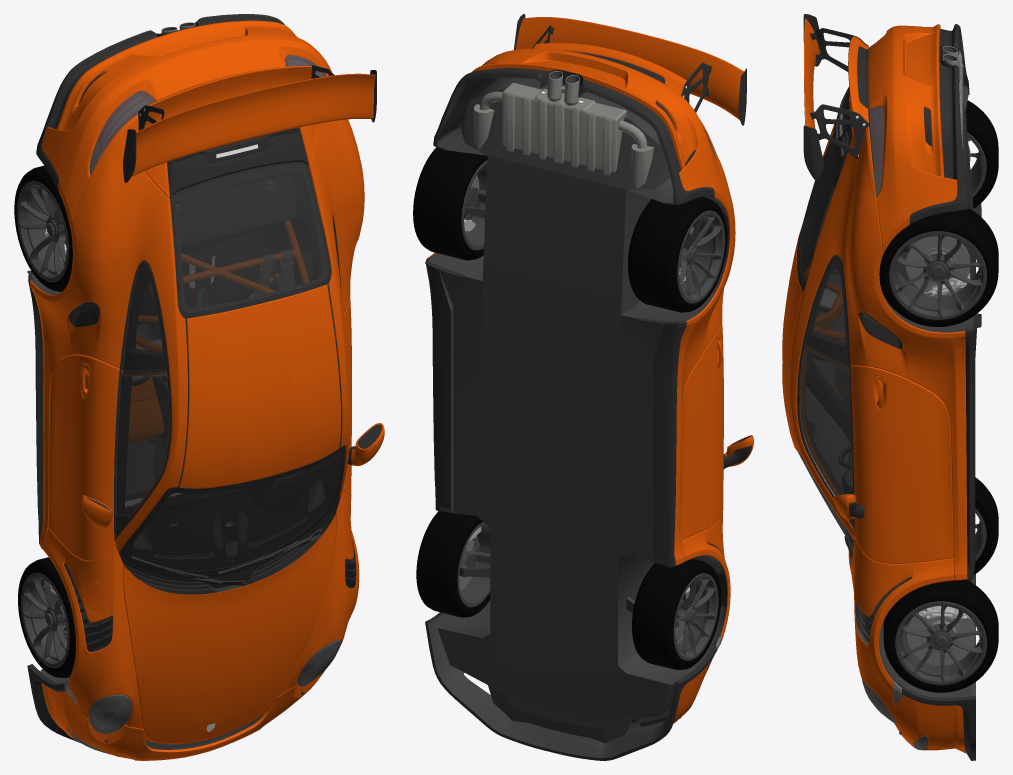
Rendered from Porsche.glb.
3 renders of one model, left to right at view 1: azimuth 30°, elevation 25°; view 2: azimuth 150°, elevation 25°; view 3: azimuth 270°, elevation 25°, orthographic. The views are drawn at different scales.
Parts seen in each view (by area): view 1: GEO_Body_SUB0.001_184, GEO_Windows_SUB1.001_219, GEO_MotorHood_SUB0.001_198, GEO_RearBumper_SUB0.003_196, GEO_Cockpit_HR_SUB0.003_142, GEO_Body_SUB1.001_183, GEO_Door_R_SUB0.001_223, GEO_Wing_SUB1.001_204, GEO_Cockpit_HR_SUB1.069_140, GEO_Windows_SUB0.001_218, GEO_window_L1.001_224, GEO_Front_Bumper_SUB0.001_159 (+18 smaller); view 2: GEO_Body_SUB3.001_190, GEO_Body_SUB9.001_187, GEO_Body_SUB1.001_183, GEO_RearBumper_SUB0.003_196, GEO_Door_R_SUB0.001_223, GEO_Body_SUB0.001_184, GEO_Wing_SUB1.001_204, Tyre_RR2.001_6, GEO_Front_Bumper_SUB2.001_162, Tyre_RR1.001_164, A_Tyre_LF2.001_202, A_Tyre_LF.001_9 (+10 smaller); view 3: GEO_Body_SUB0.001_184, GEO_Door_L_SUB0.001_215, GEO_RearBumper_SUB0.003_196, GEO_Windows_SUB1.001_219, GEO_window_L.001_216, GEO_Body_SUB1.001_183, GEO_rim_front2_SUB0.001_163, A_Tyre_LF.001_9, Tyre_RR1.001_164, GEO_Cockpit_HR_SUB1.069_140, GEO_RearBumper_SUB1.003_195, GEO_Body_SUB3.001_190 (+23 smaller).
Part boxes in pixels (x1=…): GEO_Body_SUB0.001_184: x1=30, y1=65, x2=364, y2=728; GEO_Windows_SUB1.001_219: x1=127, y1=164, x2=340, y2=571; GEO_MotorHood_SUB0.001_198: x1=123, y1=514, x2=336, y2=742; GEO_RearBumper_SUB0.003_196: x1=42, y1=20, x2=332, y2=228; GEO_Cockpit_HR_SUB0.003_142: x1=125, y1=219, x2=327, y2=569; GEO_Body_SUB1.001_183: x1=27, y1=127, x2=356, y2=651; GEO_Door_R_SUB0.001_223: x1=48, y1=355, x2=119, y2=560; GEO_Wing_SUB1.001_204: x1=131, y1=73, x2=375, y2=176; GEO_Cockpit_HR_SUB1.069_140: x1=126, y1=164, x2=340, y2=570; GEO_Windows_SUB0.001_218: x1=119, y1=161, x2=345, y2=578; GEO_window_L1.001_224: x1=116, y1=369, x2=169, y2=517; GEO_Front_Bumper_SUB0.001_159: x1=41, y1=671, x2=324, y2=760; GEO_Body_SUB3.001_190: x1=429, y1=71, x2=729, y2=743; GEO_Body_SUB9.001_187: x1=474, y1=71, x2=653, y2=188; GEO_Body_SUB1.001_183: x1=425, y1=69, x2=727, y2=603; GEO_RearBumper_SUB0.003_196: x1=472, y1=48, x2=729, y2=216; GEO_Door_R_SUB0.001_223: x1=681, y1=323, x2=753, y2=540; GEO_Body_SUB0.001_184: x1=428, y1=43, x2=735, y2=663; GEO_Wing_SUB1.001_204: x1=515, y1=17, x2=744, y2=119; Tyre_RR2.001_6: x1=628, y1=197, x2=727, y2=312; GEO_Front_Bumper_SUB2.001_162: x1=427, y1=613, x2=672, y2=758; Tyre_RR1.001_164: x1=413, y1=147, x2=487, y2=260; A_Tyre_LF2.001_202: x1=632, y1=558, x2=721, y2=669; A_Tyre_LF.001_9: x1=416, y1=511, x2=490, y2=617; GEO_Body_SUB0.001_184: x1=782, y1=36, x2=967, y2=714; GEO_Door_L_SUB0.001_215: x1=834, y1=365, x2=953, y2=563; GEO_RearBumper_SUB0.003_196: x1=868, y1=24, x2=957, y2=253; GEO_Windows_SUB1.001_219: x1=798, y1=134, x2=852, y2=544; GEO_window_L.001_216: x1=799, y1=345, x2=852, y2=496; GEO_Body_SUB1.001_183: x1=797, y1=49, x2=981, y2=642; GEO_rim_front2_SUB0.001_163: x1=889, y1=231, x2=987, y2=319; A_Tyre_LF.001_9: x1=883, y1=579, x2=998, y2=692; Tyre_RR1.001_164: x1=879, y1=208, x2=998, y2=326; GEO_Cockpit_HR_SUB1.069_140: x1=798, y1=136, x2=851, y2=543; GEO_RearBumper_SUB1.003_195: x1=909, y1=24, x2=969, y2=224; GEO_Body_SUB3.001_190: x1=841, y1=46, x2=975, y2=697.
Bounding box in the file's own units: 3.96 × 9.1 × 2.6.
